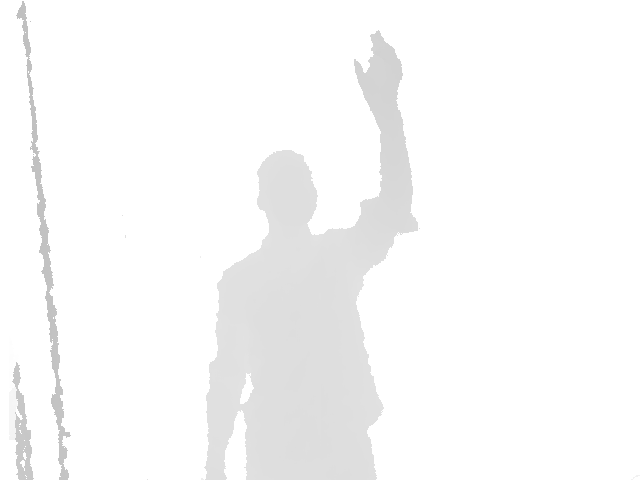hand: (354, 30, 403, 110)
head: (256, 150, 318, 226)
person: (203, 30, 420, 480)
